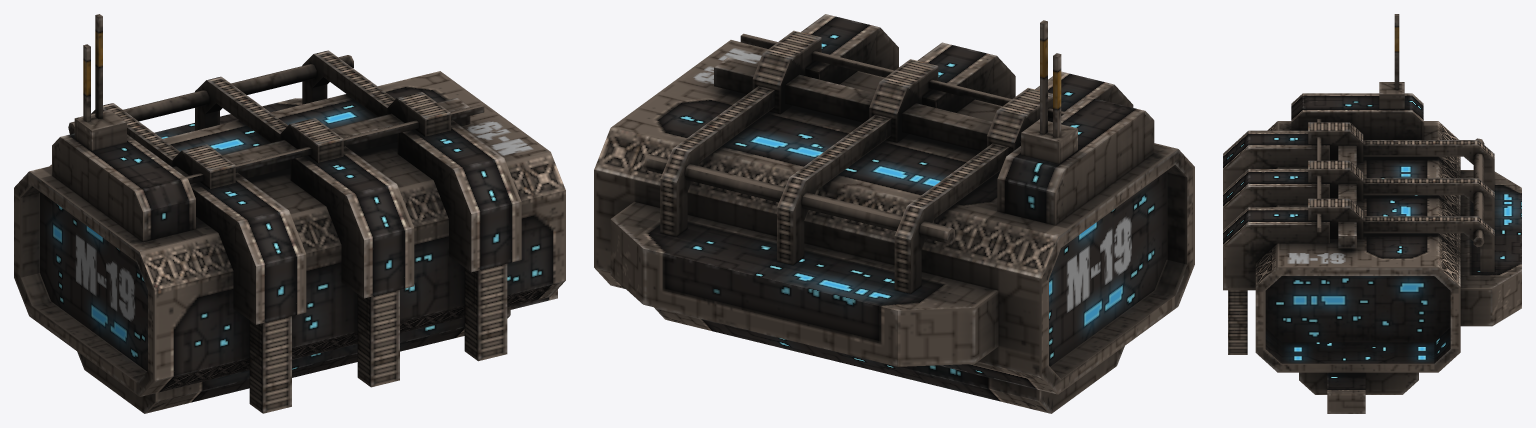
File: spaceShip.fbx
The picture shows the model from 3 angles, left to right: view 1: azimuth 30°, elevation 25°; view 2: azimuth 150°, elevation 25°; view 3: azimuth 270°, elevation 25°; orthographic projection. The views are drawn at different scales.
Parts seen in each view (by area): view 1: space_station_4; view 2: space_station_4; view 3: space_station_4.
Part boxes in pixels (bbox=[...]): space_station_4: bbox=[14, 14, 565, 413]; space_station_4: bbox=[594, 14, 1194, 413]; space_station_4: bbox=[1223, 14, 1521, 413].
Size of the model in its own units: 70.46 by 52.75 by 55.38.
